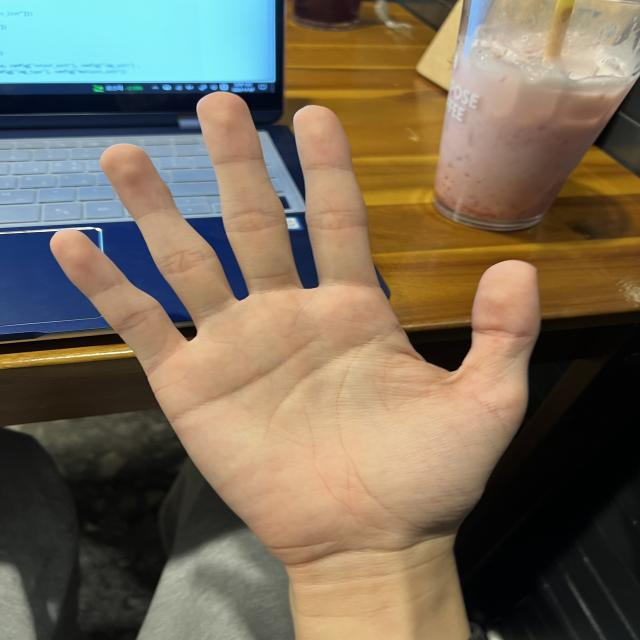hand: (44, 87, 544, 635)
